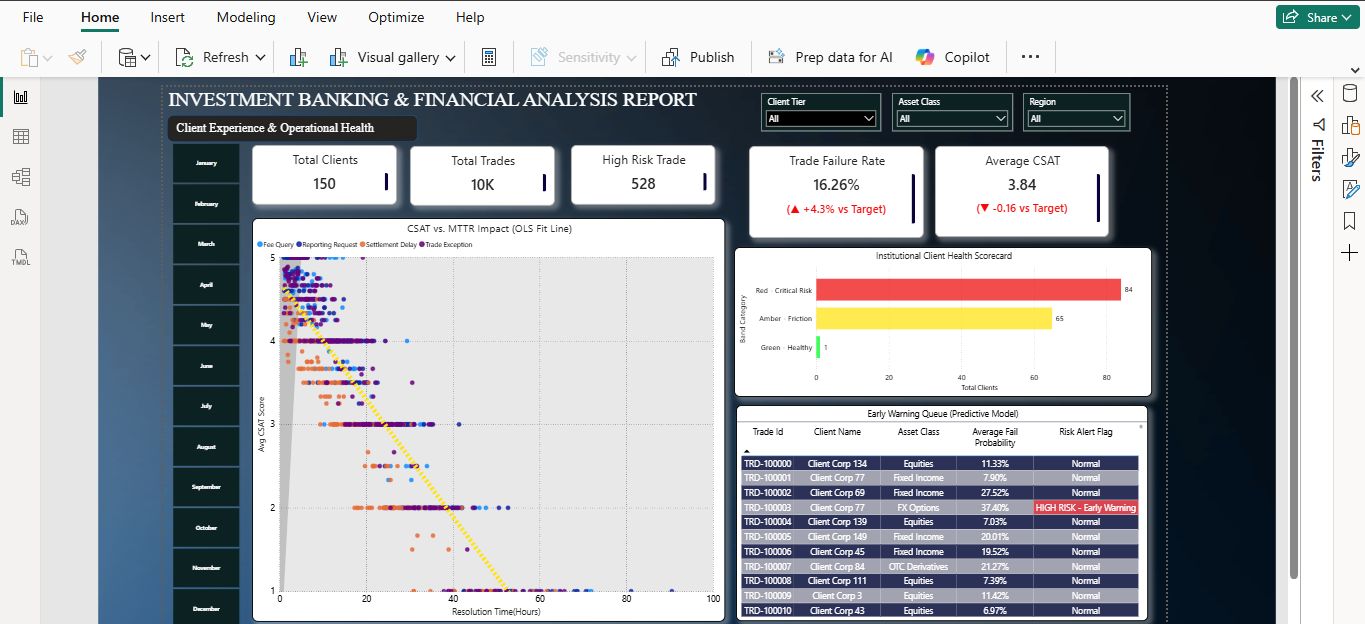

What the dashboard file says about the page in this screenshot:
{"tool":"powerbi","page":{"name":"Client Experience (CX) & Ops","canvas":[2180,1290],"ordinal":0},"visuals":[{"type":"slicer","fields":{"Values":["dim_clients.client_tier"]},"box":[1300,13,260.9,82.6],"z":1000},{"type":"slicer","fields":{"Values":["fact_trades.asset_class"]},"box":[1584.8,13,263,82.6],"z":2000},{"type":"cardVisual","title":"Total Clients","fields":{"Data":["Count(fact_trades.client_id)"]},"box":[194,126,315,130],"z":3000},{"type":"cardVisual","title":"Trade Failure Rate","fields":{"Data":["Avg(fact_trades.trade_failed)"]},"box":[1274.6,128.3,380.4,200],"z":4000},{"type":"cardVisual","title":"High Risk Trade","fields":{"Data":["CountNonNull(fact_trades.trade_id)"]},"box":[887.8,126.8,314,130],"z":5000},{"type":"tableEx","title":"Early Warning Queue (Predictive Model)","fields":{"Values":["pred_trade_risk.trade_id","dim_clients.client_name","fact_trades.asset_class","Avg(pred_trade_risk.fail_probability)","pred_trade_risk.risk_alert_flag"]},"box":[1245.7,691.3,895.7,469.6],"z":6000},{"type":"scatterChart","title":"CSAT vs. MTTR Impact (OLS Fit Line)","fields":{"Series":["fact_cx.ticket_category"],"X":["fact_cx.resolution_time_hrs"],"Y":["Avg(fact_cx.csat_score)"]},"box":[192.7,285.4,1029.3,878],"z":7000},{"type":"clusteredBarChart","title":"Institutional Client Health Scorecard","fields":{"Category":["dim_client_scorecard.health_band"],"Y":["CountNonNull(dim_client_scorecard.client_id)"]},"box":[1241.3,347.8,908.7,326.1],"z":8000},{"type":"textbox","box":[8.7,0,1215.2,56.5],"z":9000},{"type":"shape","box":[8.7,60.9,545.7,58.7],"z":10000},{"type":"textbox","box":[23.9,69.6,458.7,45.7],"z":11000},{"type":"cardVisual","title":"Average CSAT","fields":{"Data":["Avg(fact_cx.csat_score)"]},"box":[1679,128.3,378.3,197.8],"z":12000},{"type":"cardVisual","title":"Total Trades","fields":{"Data":["CountNonNull(pred_trade_risk.trade_id)"]},"box":[536,128,315,130],"z":13000},{"type":"slicer","fields":{"Values":["fact_trades.Month"]},"box":[0,120,186,1060],"z":14000},{"type":"slicer","fields":{"Values":["dim_clients.region"]},"box":[1869.6,13,232.6,82.6],"z":15000}]}

Visuals, with their boxes on the page's 2180x1290 design canvas (x1, y1, x2, y2). These are canvas units, not pixel positions in the 1365x624 screenshot, which may show the page scaled, cropped or inside an application window:
slicer - dim_clients.client_tier: select_region(1300, 13, 1561, 96)
slicer - fact_trades.asset_class: select_region(1585, 13, 1848, 96)
"Total Clients" cardVisual: select_region(194, 126, 509, 256)
"Trade Failure Rate" cardVisual: select_region(1275, 128, 1655, 328)
"High Risk Trade" cardVisual: select_region(888, 127, 1202, 257)
"Early Warning Queue (Predictive Model)" tableEx: select_region(1246, 691, 2141, 1161)
"CSAT vs. MTTR Impact (OLS Fit Line)" scatterChart: select_region(193, 285, 1222, 1163)
"Institutional Client Health Scorecard" clusteredBarChart: select_region(1241, 348, 2150, 674)
textbox: select_region(9, 0, 1224, 56)
shape: select_region(9, 61, 554, 120)
textbox: select_region(24, 70, 483, 115)
"Average CSAT" cardVisual: select_region(1679, 128, 2057, 326)
"Total Trades" cardVisual: select_region(536, 128, 851, 258)
slicer - fact_trades.Month: select_region(0, 120, 186, 1180)
slicer - dim_clients.region: select_region(1870, 13, 2102, 96)
